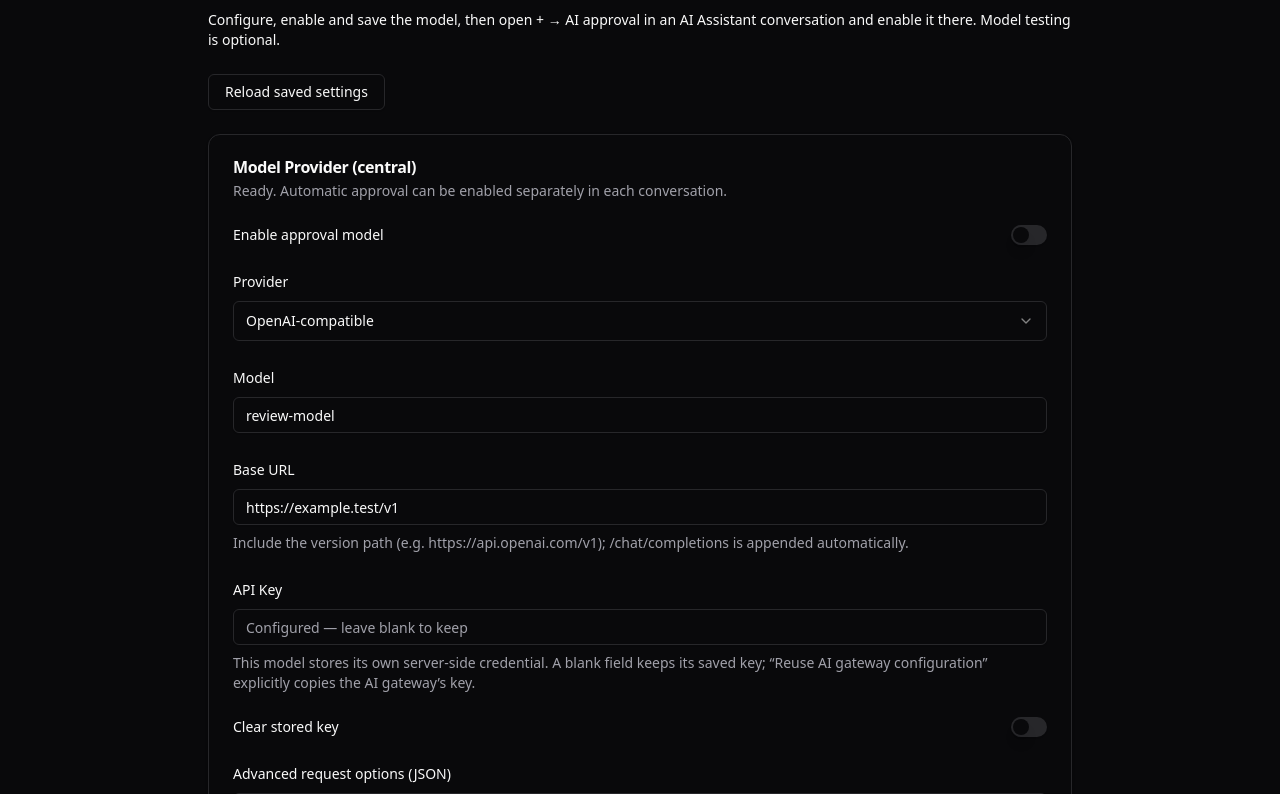
Scenario: independent OSS approval model configuration › requires saving a changed enablement state before testing
The image size is (1280, 794).
Check: the field showing "review-model" is shown, box [233,397,1047,433]
Step 1. Click the switch named "Enable approval model" in the row of "Enable approval model" → point(1029, 235), box [1011,225,1047,245]
(page scrolled)
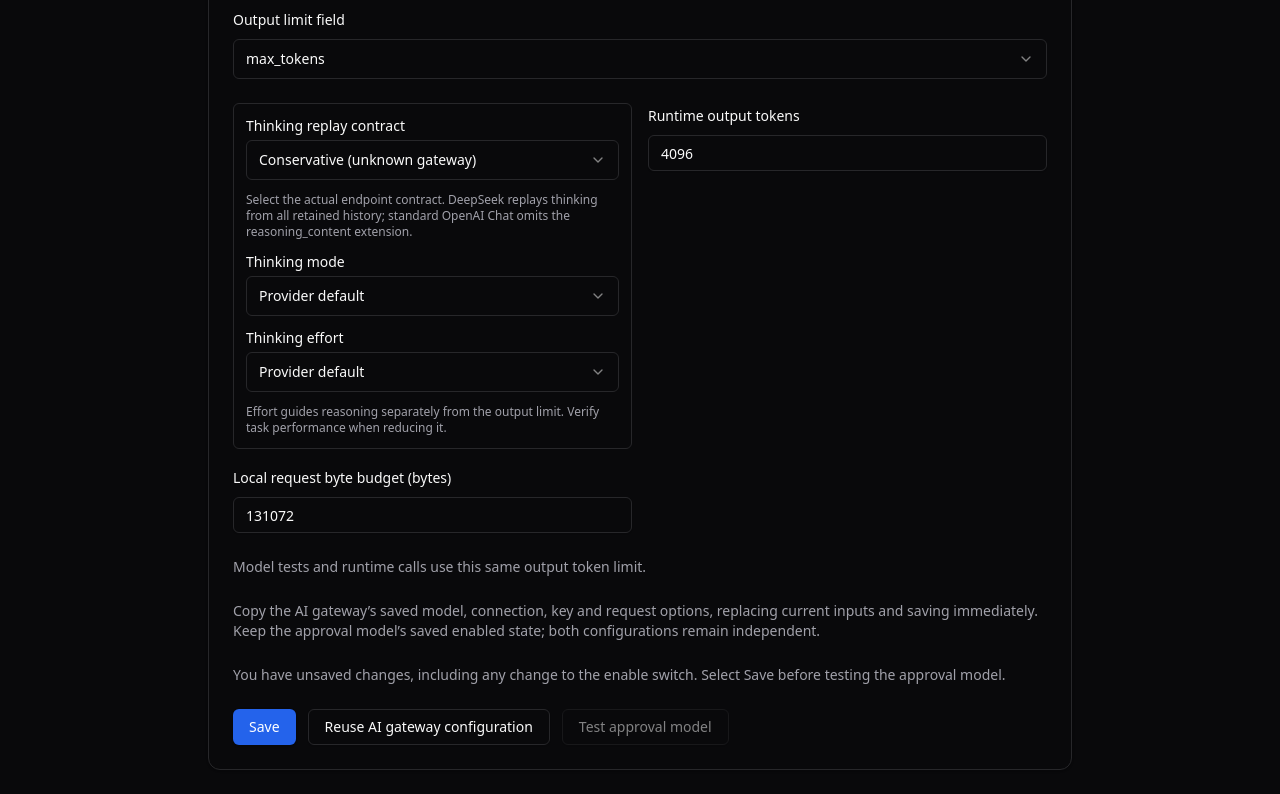
Check: the button "Test approval model" is disabled, box [562,709,729,745]
Step 2. Click the button "Save" → point(264, 727), box [233,709,296,745]
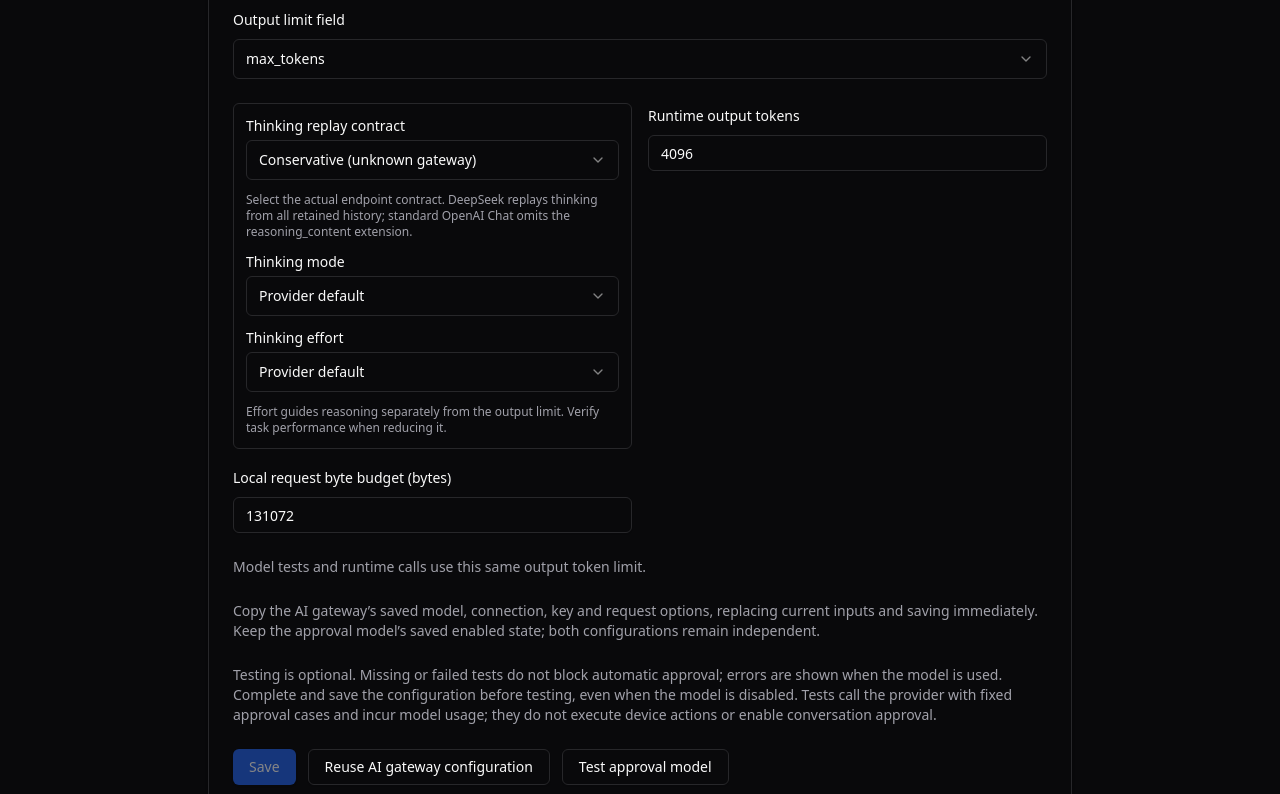
Check: the button "Test approval model" is enabled, box [562,749,729,785]
